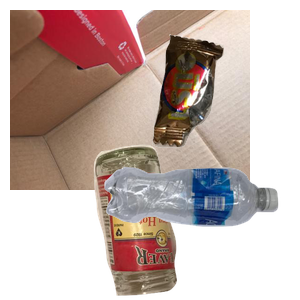cardboard: (10, 10, 250, 190)
glass: (91, 142, 260, 300)
plastic: (102, 165, 300, 300)
trash: (150, 32, 300, 172)
